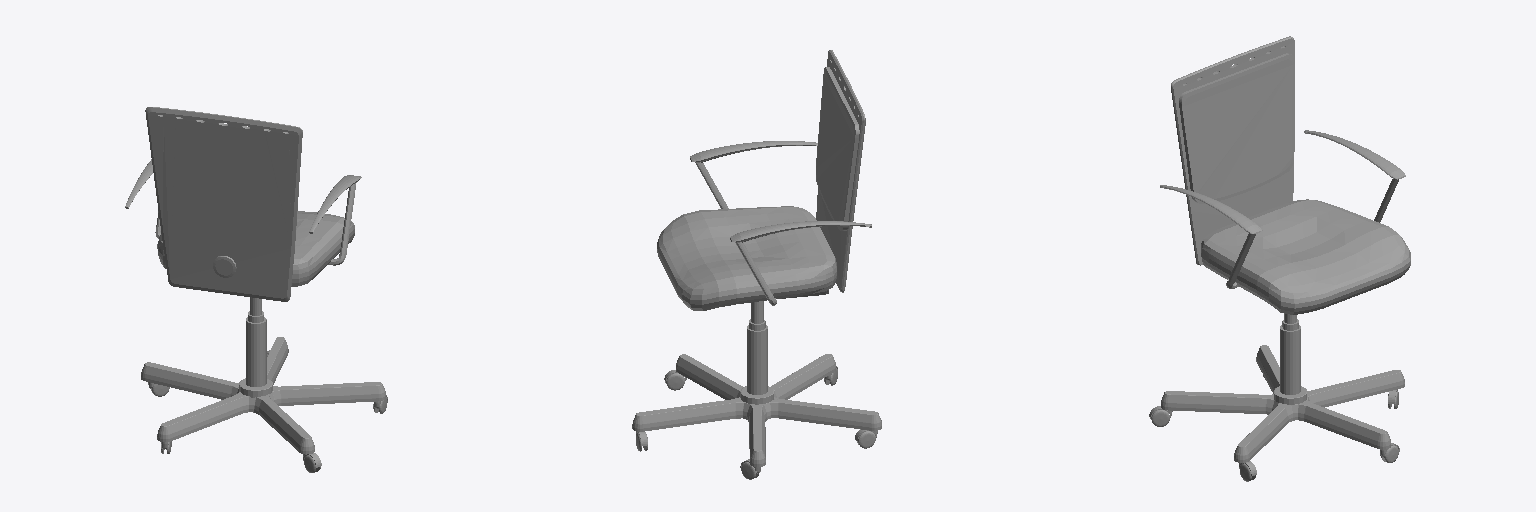
3 views of the same model, side by side, from view 1: azimuth 30°, elevation 25°; view 2: azimuth 150°, elevation 25°; view 3: azimuth 270°, elevation 25° (orthographic).
Parts seen in each view (by area): view 1: Color007.18, Object53, Box08, Object02, Loft70, Loft69; view 2: Box08, Object53, Rectangle53, Color007.18, Object02, Loft72, Loft70, Loft71; view 3: Box08, Rectangle53, Object53, Color007.18, Object02, Loft72, Loft70.
Boxes of the visible parts, x1,y1,x2,y2 form: Color007.18: [145, 107, 302, 301]; Object53: [141, 337, 385, 454]; Box08: [157, 211, 354, 286]; Object02: [246, 317, 266, 386]; Loft70: [309, 175, 361, 232]; Loft69: [310, 182, 356, 265]; Box08: [657, 206, 836, 310]; Object53: [632, 354, 881, 466]; Rectangle53: [816, 67, 859, 230]; Color007.18: [816, 50, 865, 292]; Object02: [747, 325, 767, 394]; Loft72: [730, 221, 871, 242]; Loft70: [690, 141, 817, 162]; Loft71: [735, 226, 871, 305]; Box08: [1201, 199, 1410, 314]; Rectangle53: [1179, 53, 1294, 203]; Object53: [1161, 345, 1404, 462]; Color007.18: [1171, 36, 1294, 265]; Object02: [1280, 325, 1300, 394]; Loft72: [1304, 130, 1405, 179]; Loft70: [1160, 185, 1262, 233].
Size of the model in its own units: 0.5699 by 0.7926 by 0.5479.